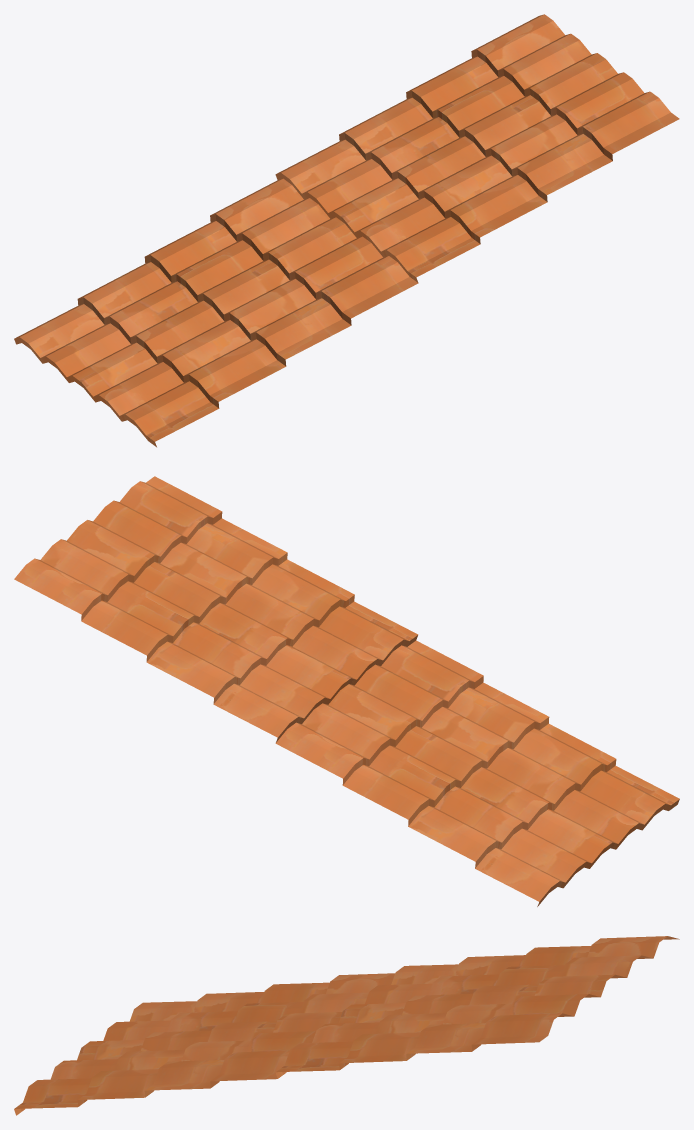
The model's file is Roof_02.fbx.
3 views of the same model, one above another, from view 1: azimuth 30°, elevation 25°; view 2: azimuth 150°, elevation 25°; view 3: azimuth 330°, elevation 25° (orthographic).
Parts seen in each view (by area): view 1: Roof_02; view 2: Roof_02; view 3: Roof_02.
Boxes of the visible parts, x1,y1,x2,y2 form: Roof_02: (14, 14, 679, 447); Roof_02: (14, 476, 679, 906); Roof_02: (14, 936, 679, 1115).
Bounding box in the file's own units: 433 × 164 × 200.
